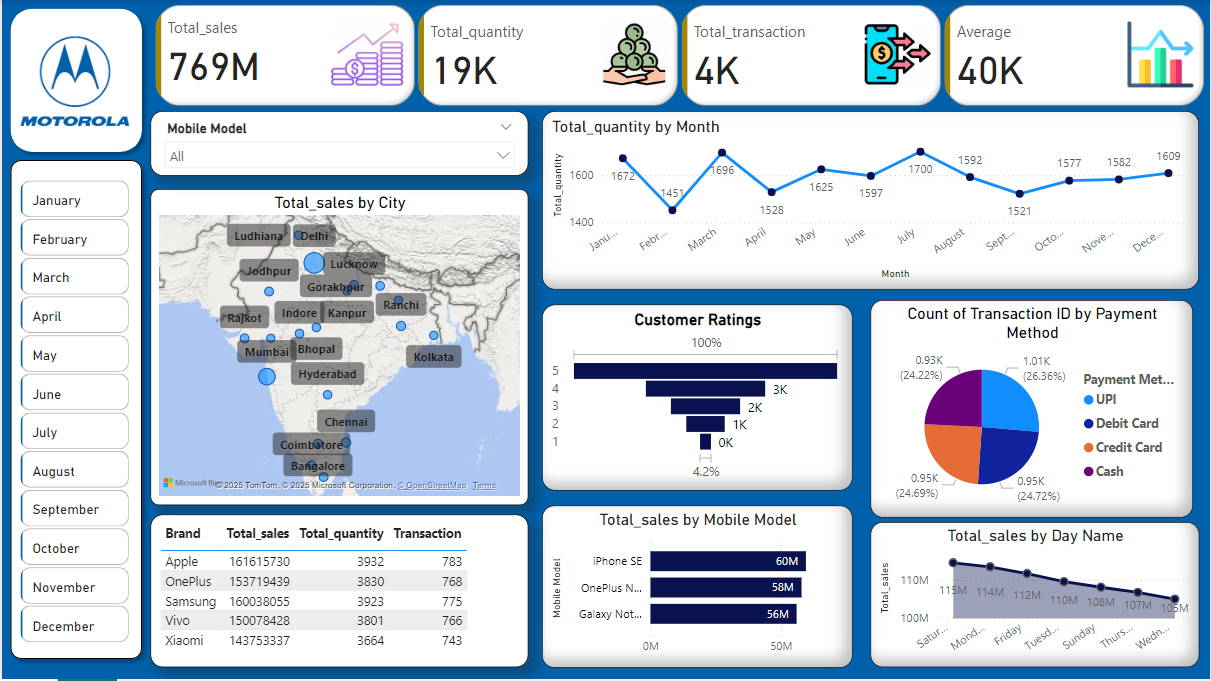

This screenshot's page, from the dashboard's own definition file:
{"tool":"powerbi","page":{"name":"Page 1","canvas":[1280,720],"ordinal":0},"visuals":[{"type":"shape","box":[0,0,157.5,170.2],"z":0},{"type":"image","box":[14.3,11.1,125.7,149.5],"z":1000},{"type":"shape","box":[0,160.7,157.5,547.2],"z":2000},{"type":"advancedSlicerVisual","fields":{"Values":["sales Data.Date.Variation.Date Hierarchy.Month"]},"box":[14.3,186.1,125.7,505.8],"z":3000},{"type":"cardVisual","fields":{"Data":["sales Data.Total_sales","sales Data.Total_quantity","sales Data.Total_transaction","sales Data.Average"]},"box":[157.5,0,1123,117.7],"z":4000},{"type":"map","fields":{"Category":["sales Data.City"],"Size":["sales Data.Total_sales"]},"box":[157.5,200.4,400.8,335.6],"z":5000},{"type":"lineChart","fields":{"Category":["sales Data.Date.Variation.Date Hierarchy.Month"],"Y":["sales Data.Total_quantity"]},"box":[572.6,117.7,696.7,189.3],"z":6000},{"type":"clusteredBarChart","fields":{"Category":["sales Data.Mobile Model"],"Y":["sales Data.Total_sales"]},"box":[572.6,536,329.3,171.8],"z":7000},{"type":"pieChart","fields":{"Category":["sales Data.Payment Method"],"Y":["CountNonNull(sales Data.Transaction ID)"]},"box":[921,318.1,342,230.6],"z":8000},{"type":"funnel","title":" Customer Ratings","fields":{"Category":["sales Data.Customer Ratings"],"Y":["Sum(sales Data.Customer Ratings)"]},"box":[572.6,322.9,329.3,197.2],"z":8001},{"type":"stackedAreaChart","title":"Total_sales by Day Name","fields":{"Category":["sales Data.Day Name.1"],"Y":["sales Data.Total_sales"]},"box":[921,553.5,348.3,154.3],"z":8002},{"type":"tableEx","fields":{"Values":["sales Data.Brand","sales Data.Total_sales","sales Data.Total_quantity","CountNonNull(sales Data.Transaction ID)"]},"box":[157.5,545.6,400.8,162.2],"z":8003},{"type":"slicer","fields":{"Values":["sales Data.Mobile Model"]},"box":[157.5,117.7,400.8,68.4],"z":8004}]}

Visuals, with their boxes in screenshot pixels (x1, y1, x2, y2), scaled from the page's 1280x720 canvas onto the 1211x681 screenshot:
shape: detection(0, 0, 149, 161)
image: detection(14, 10, 132, 152)
shape: detection(0, 152, 149, 670)
advancedSlicerVisual - sales Data.Date.Variation.Date Hierarchy.Month: detection(14, 176, 132, 654)
cardVisual - sales Data.Total_sales x sales Data.Total_quantity: detection(149, 0, 1210, 111)
map - sales Data.City x sales Data.Total_sales: detection(149, 190, 528, 507)
lineChart - sales Data.Date.Variation.Date Hierarchy.Month x sales Data.Total_quantity: detection(542, 111, 1201, 290)
clusteredBarChart - sales Data.Mobile Model x sales Data.Total_sales: detection(542, 507, 853, 669)
pieChart - sales Data.Payment Method x CountNonNull(sales Data.Transaction ID): detection(871, 301, 1195, 519)
" Customer Ratings" funnel: detection(542, 305, 853, 492)
"Total_sales by Day Name" stackedAreaChart: detection(871, 524, 1201, 669)
tableEx - sales Data.Brand x sales Data.Total_sales: detection(149, 516, 528, 669)
slicer - sales Data.Mobile Model: detection(149, 111, 528, 176)
